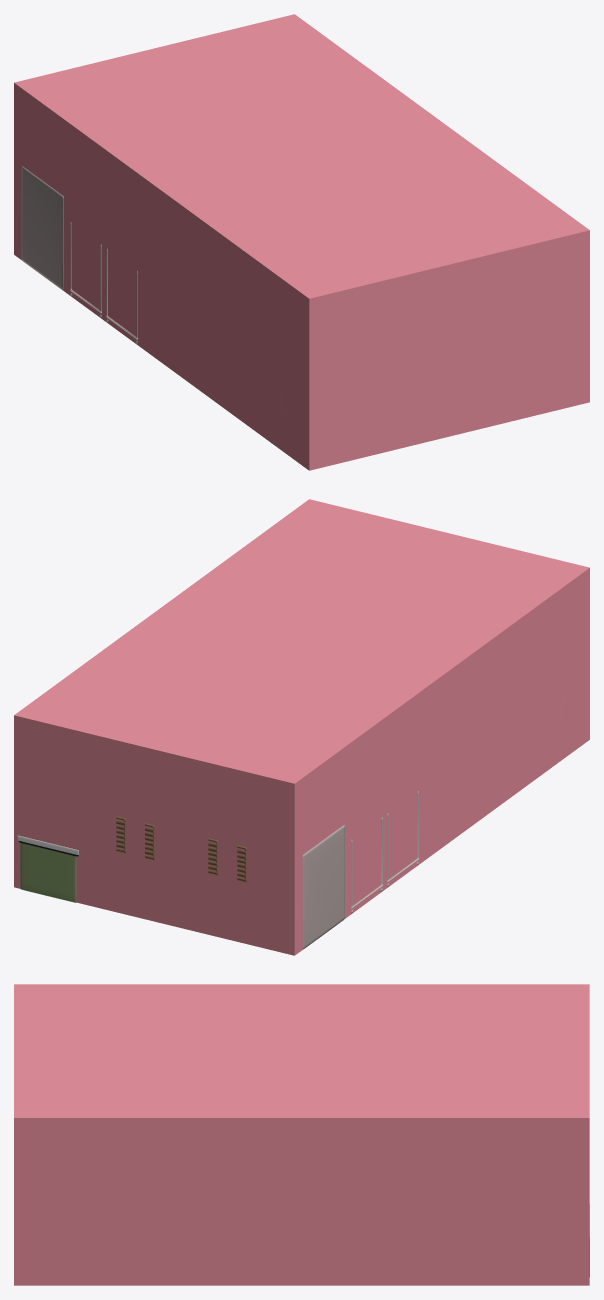
Rendered from Model_NewBakery.fbx.
3 renders of one model, top to bottom at view 1: azimuth 30°, elevation 25°; view 2: azimuth 150°, elevation 25°; view 3: azimuth 270°, elevation 25°, orthographic. The views are drawn at different scales.
Visible parts, largest first — view 1: Cube, kitchen stuff.004; view 2: Cube, kitchen stuff.004; view 3: Cube.
Part boxes in pixels (box(x1,y1,x2,y2)): Cube: box(14, 14, 589, 470); kitchen stuff.004: box(21, 166, 289, 414); Cube: box(14, 499, 589, 955); kitchen stuff.004: box(17, 692, 569, 949); Cube: box(14, 984, 589, 1285).
Bounding box in the file's own units: 883 × 518 × 1605.
